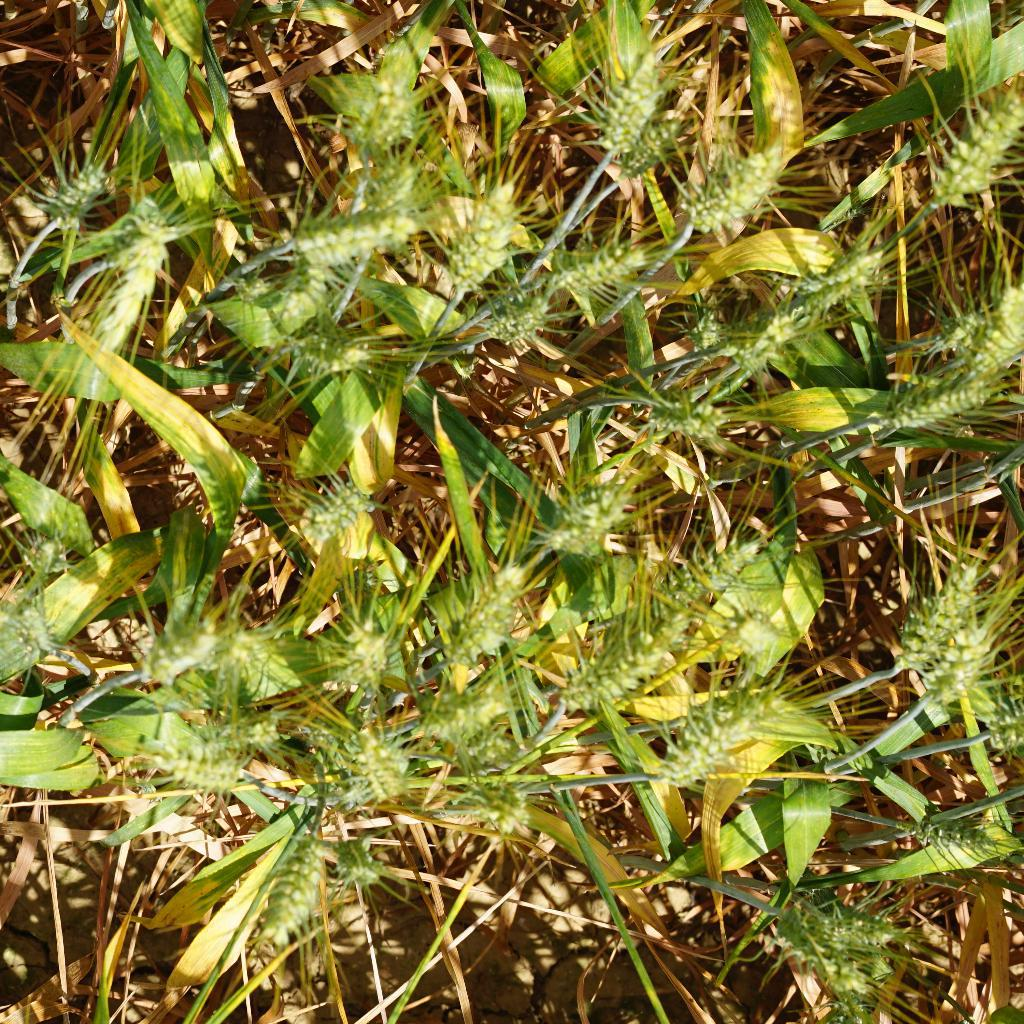0-0: (553, 559, 695, 726), (851, 350, 996, 448), (929, 73, 1024, 213), (763, 903, 886, 1004), (438, 176, 537, 292), (770, 234, 881, 336), (445, 555, 544, 668), (92, 219, 171, 358), (665, 688, 778, 783), (583, 41, 671, 161), (683, 133, 787, 231), (258, 800, 321, 960), (888, 535, 964, 662), (668, 518, 762, 615), (938, 268, 1024, 373), (911, 605, 989, 706), (548, 230, 656, 301), (286, 208, 418, 266), (342, 709, 413, 813), (314, 612, 400, 697), (539, 477, 620, 565), (792, 888, 894, 957), (197, 619, 287, 697), (627, 378, 721, 445), (134, 619, 229, 685), (22, 153, 103, 224), (907, 800, 1003, 859), (267, 250, 330, 336), (350, 73, 422, 148), (150, 725, 234, 789), (719, 307, 799, 374), (423, 683, 505, 747), (455, 759, 533, 825), (303, 474, 376, 544), (359, 150, 436, 216), (614, 113, 685, 183), (298, 307, 361, 372), (0, 591, 59, 659), (17, 529, 86, 586), (453, 722, 530, 773), (486, 286, 550, 346), (721, 602, 786, 659), (327, 833, 388, 892), (972, 694, 1021, 761), (680, 308, 728, 354), (332, 565, 382, 598), (225, 272, 273, 306)
